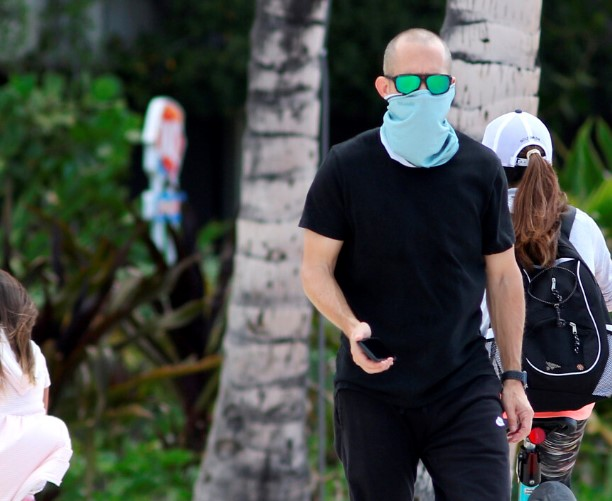face_with_mask: (381, 33, 457, 134)
